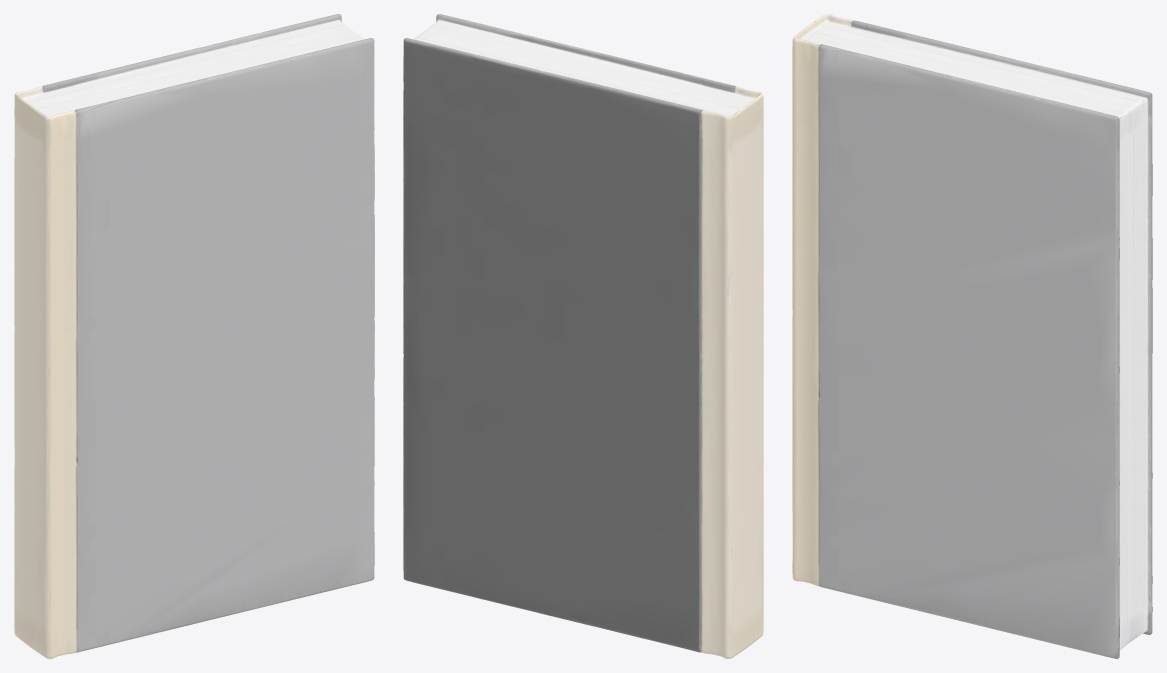
File: book.glb
The picture shows the model from 3 angles, left to right: view 1: azimuth 30°, elevation 25°; view 2: azimuth 150°, elevation 25°; view 3: azimuth 330°, elevation 25°; orthographic projection.
Parts seen in each view (by area): view 1: Mesh1.0; view 2: Mesh1.0; view 3: Mesh1.0.
Boxes of the visible parts, x1,y1,x2,y2 form: Mesh1.0: (14,14,374,658); Mesh1.0: (403,14,763,658); Mesh1.0: (792,14,1152,658).
Size of the model in its own units: 1.2 by 1.9 by 0.23.
1 material, 1 textured.
